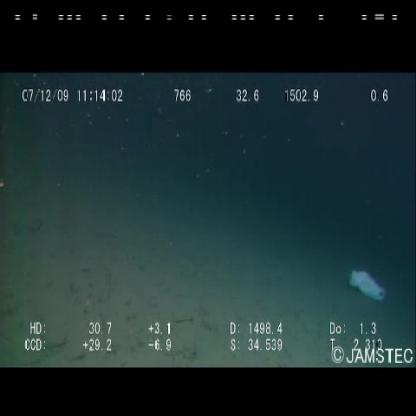Rác: (346, 266, 391, 307)
